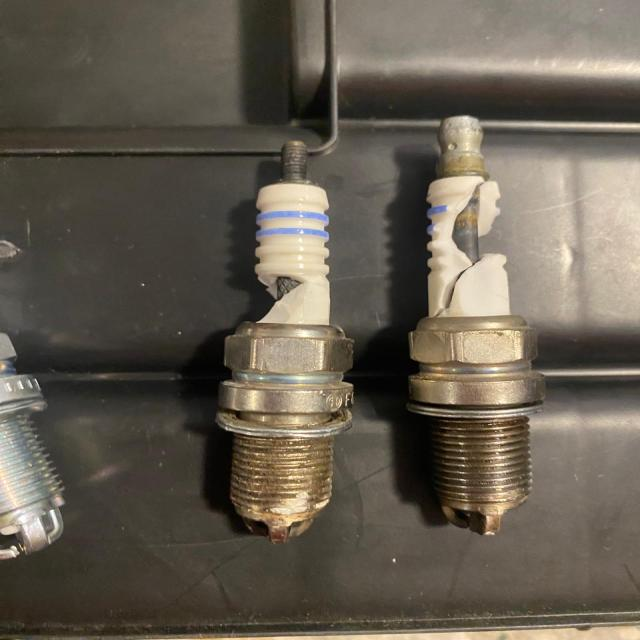damaged_spark-plug: (405, 108, 541, 532), (220, 135, 352, 523)
